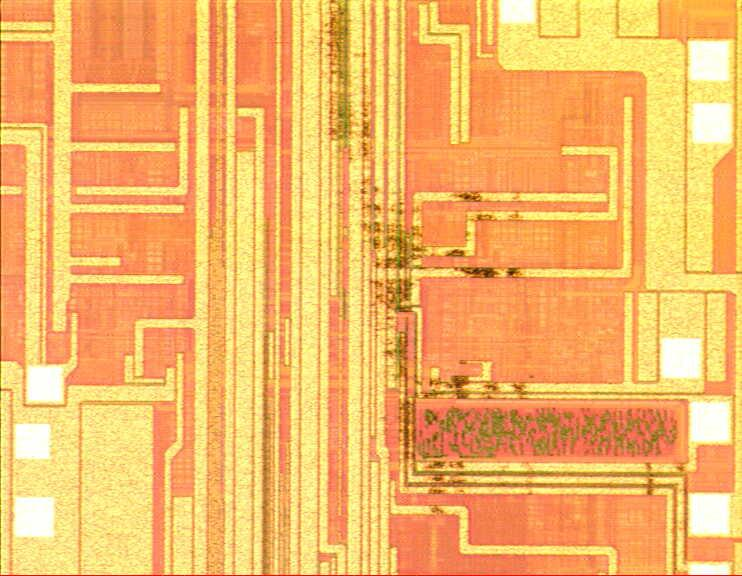SCRATCH: (303, 1, 719, 534)
